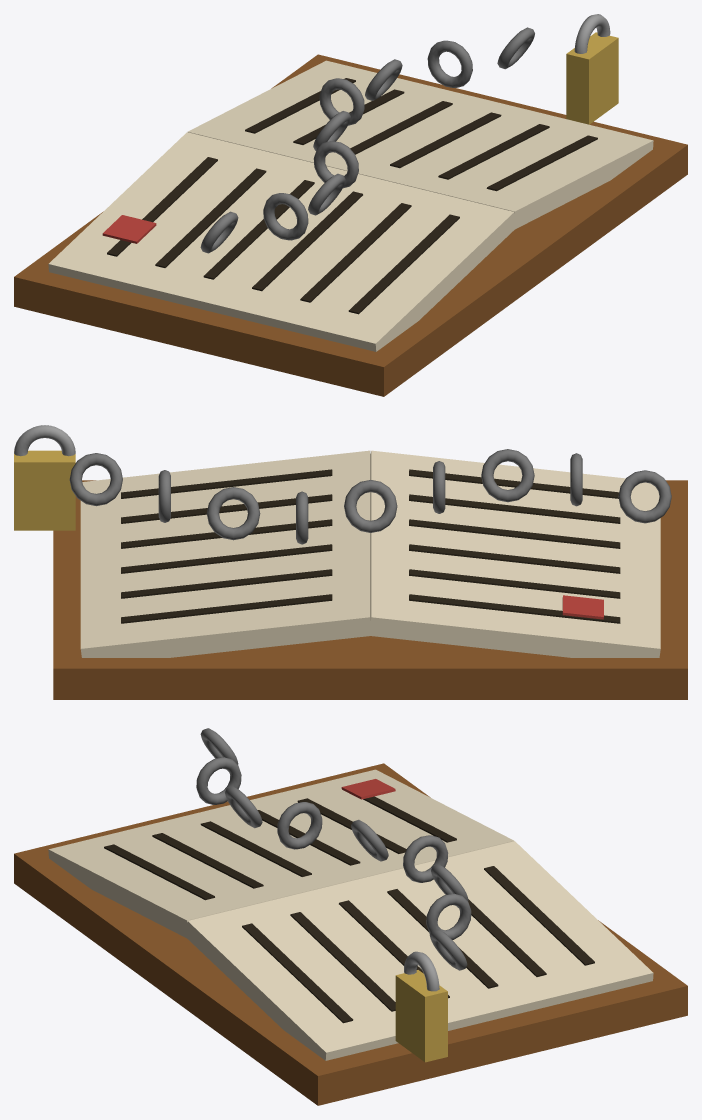
The model's file is manuscript.glb.
3 renders of one model, top to bottom at view 1: azimuth 30°, elevation 25°; view 2: azimuth 150°, elevation 25°; view 3: azimuth 270°, elevation 25°, orthographic. The views are drawn at different scales.
Bounding box in the file's own units: 2.25 × 0.455 × 2.05.
